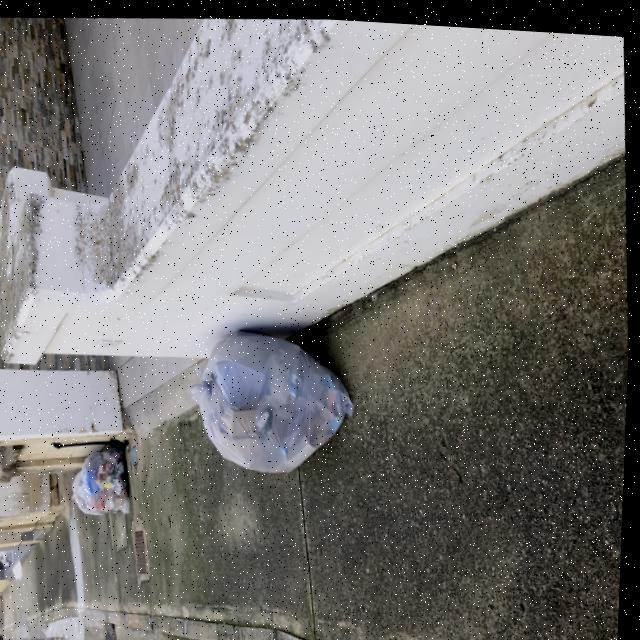Recycled Waste -Grey or Green Bag-: (189, 321, 366, 479), (81, 447, 137, 514), (75, 468, 112, 515)
